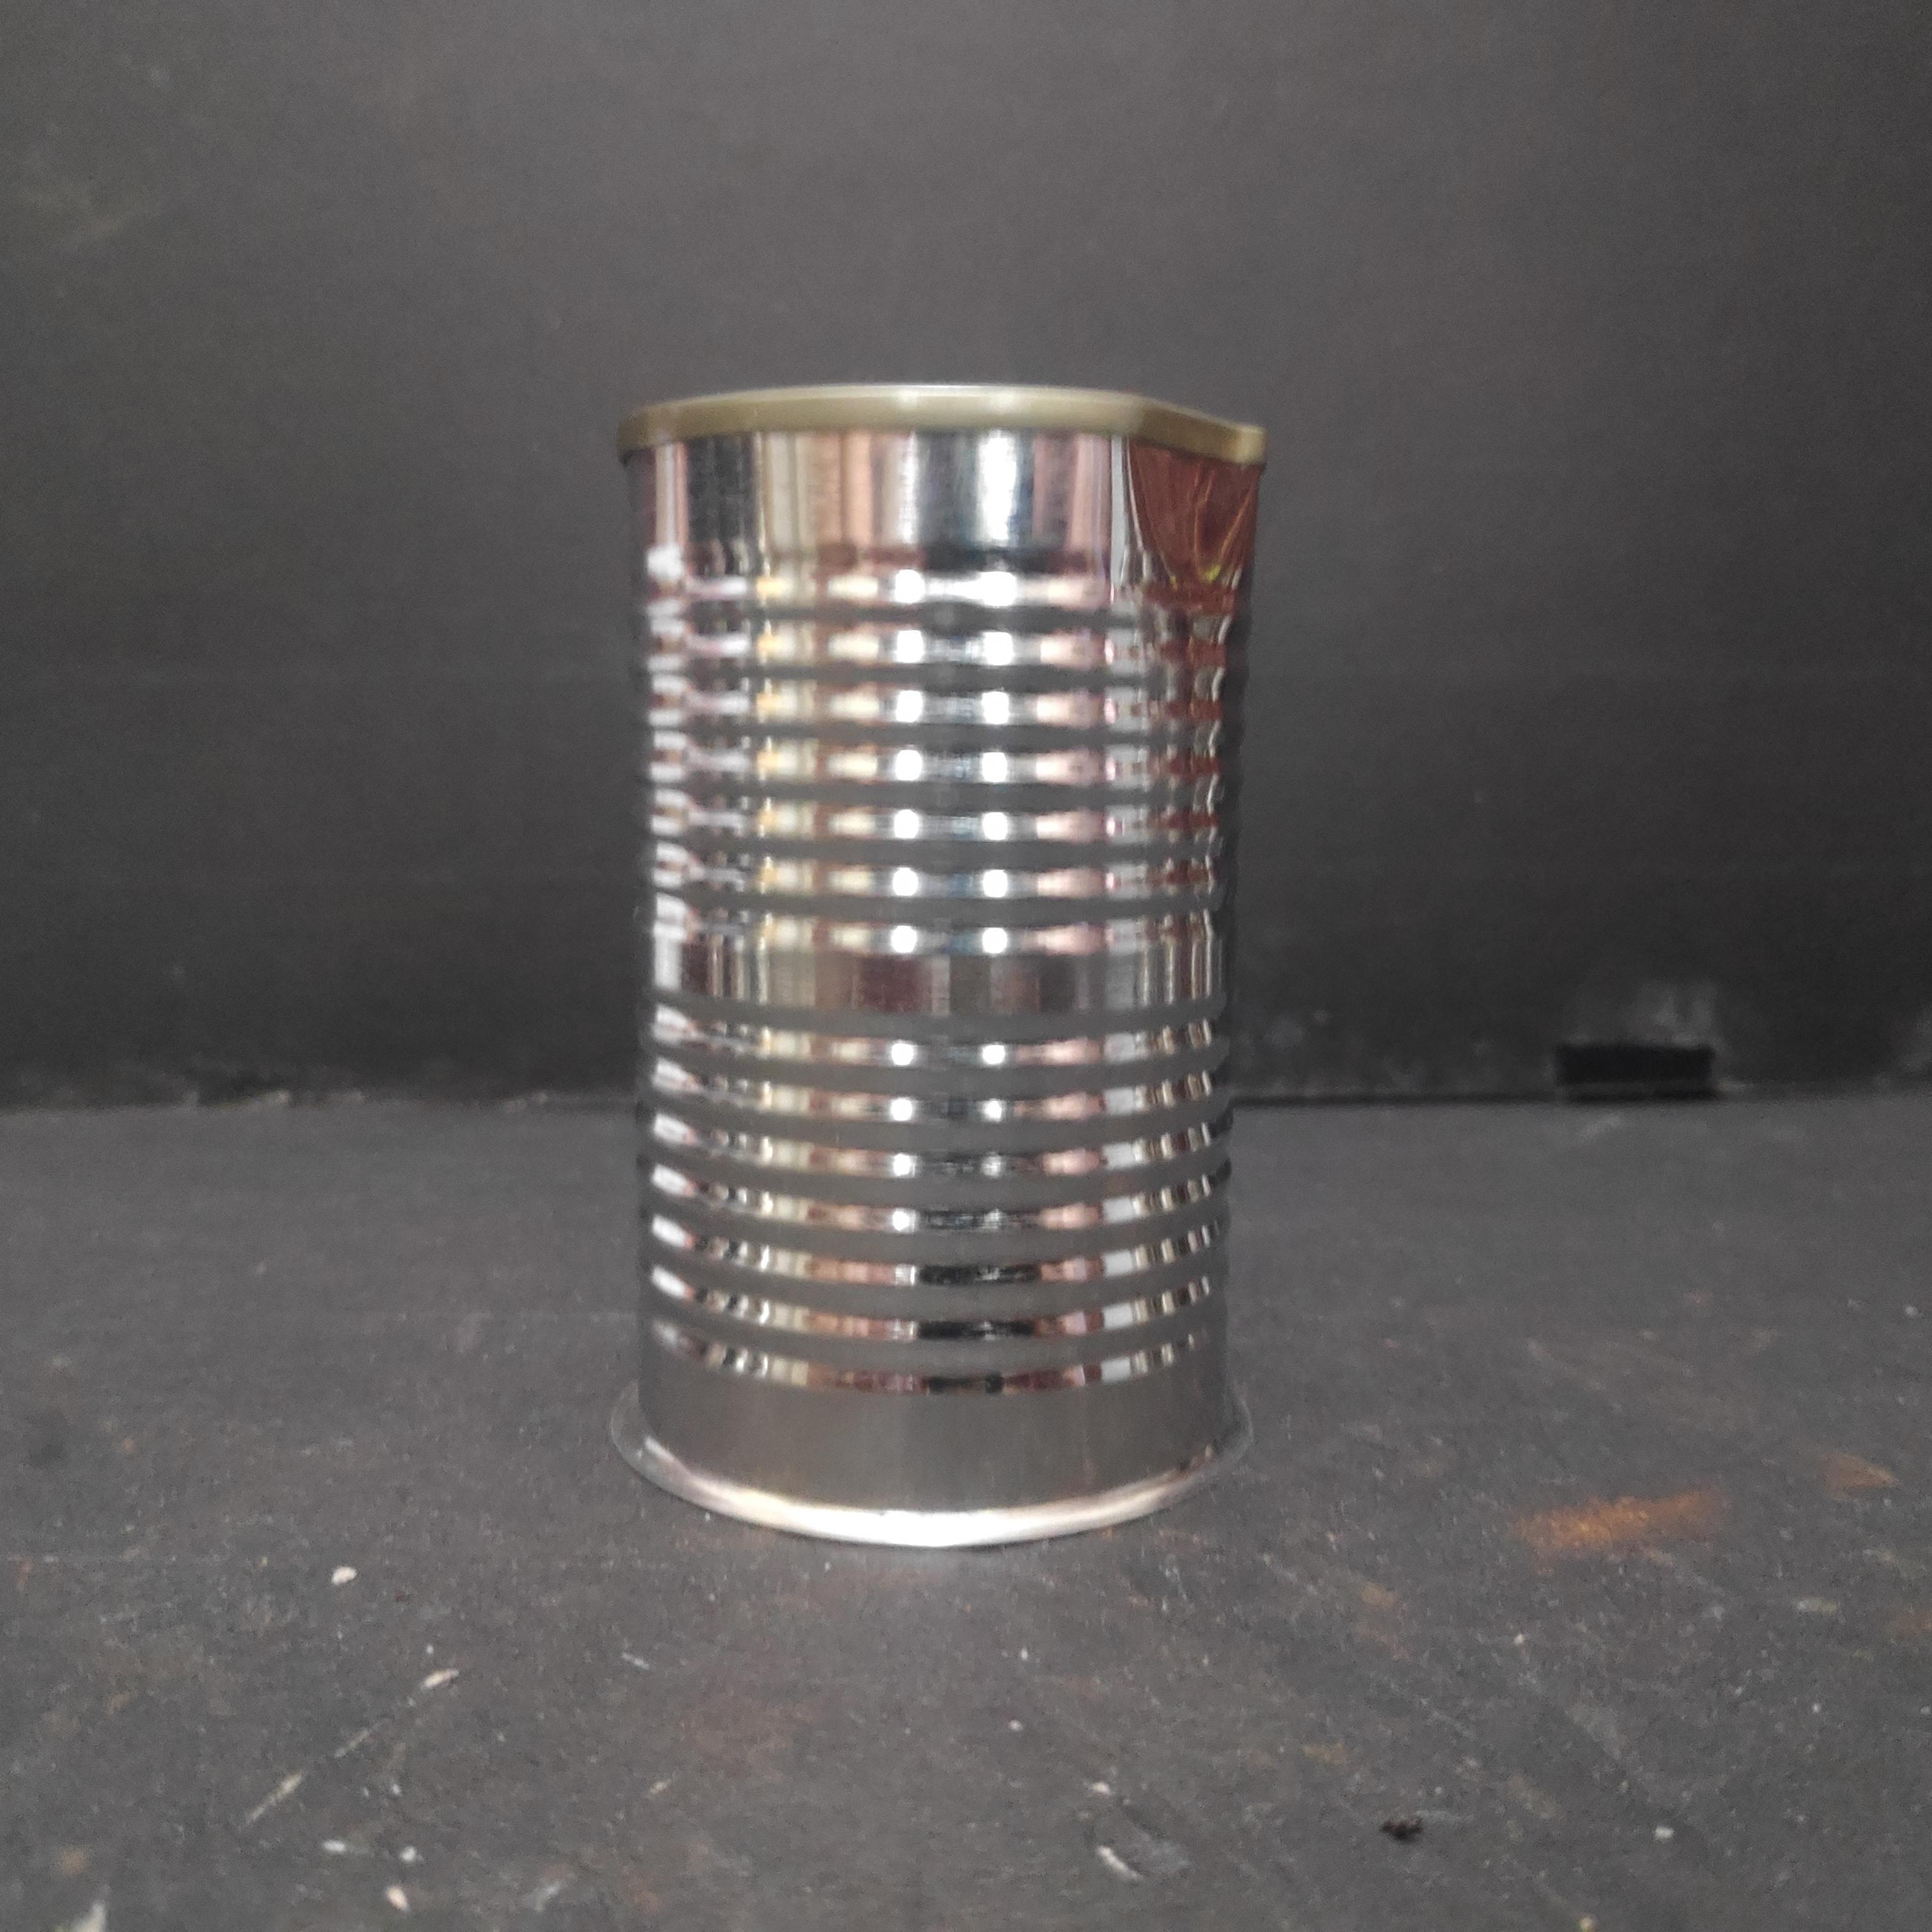Dented: (594, 345, 1297, 1553)
